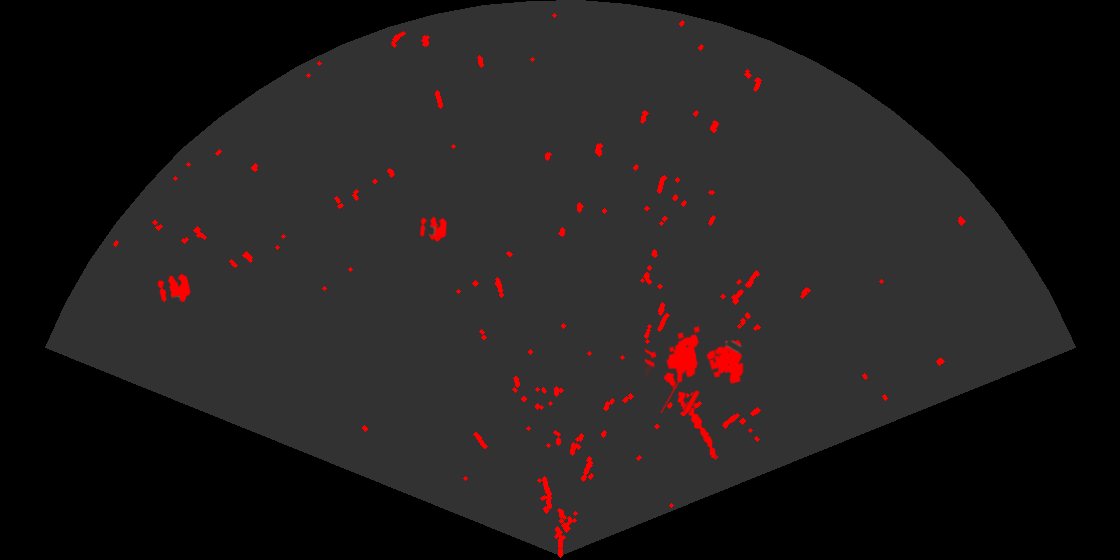ball: (156, 272, 192, 304), (418, 215, 449, 243)
cage: (645, 324, 746, 413)
chain: (662, 371, 718, 460)
